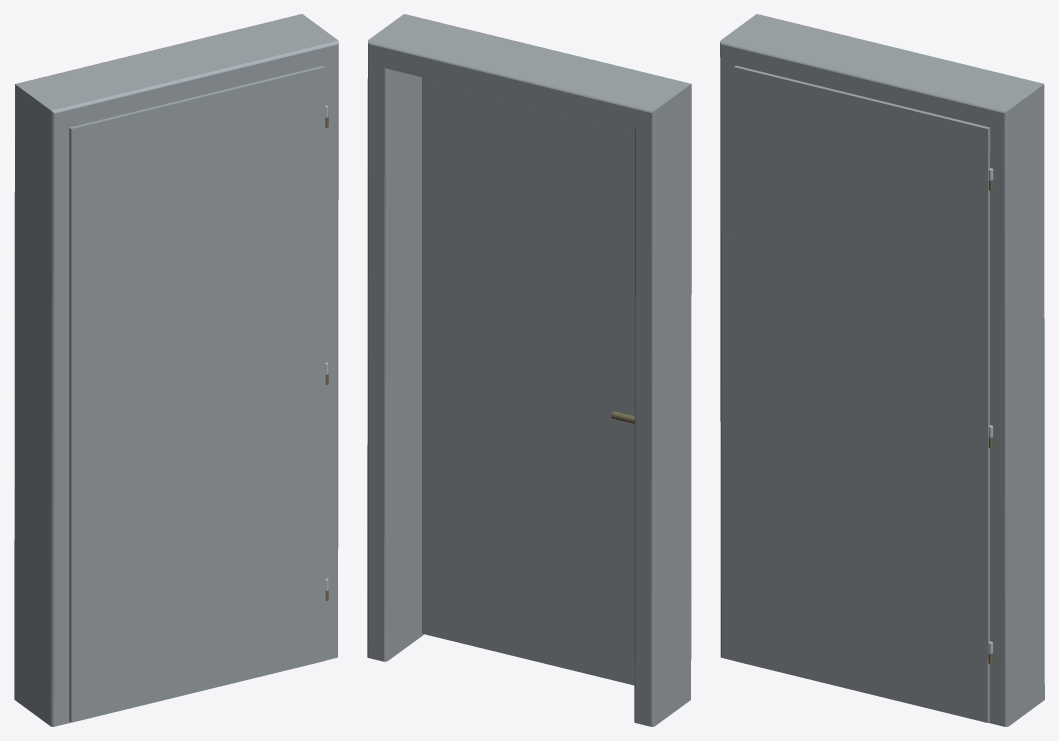
The picture shows the model from 3 angles, left to right: view 1: azimuth 30°, elevation 25°; view 2: azimuth 150°, elevation 25°; view 3: azimuth 330°, elevation 25°; orthographic projection.
Visible parts, largest first — view 1: SM_Door, SM_DoorFrame; view 2: SM_Door, SM_DoorFrame; view 3: SM_Door, SM_DoorFrame.
Part boxes in pixels (<box>): SM_Door: <box>69,65,328,722</box>; SM_DoorFrame: <box>14,14,338,726</box>; SM_Door: <box>422,77,634,685</box>; SM_DoorFrame: <box>367,14,691,726</box>; SM_Door: <box>733,65,993,722</box>; SM_DoorFrame: <box>720,14,1044,726</box>.
Size of the model in its own units: 1.16 by 2.38 by 0.2914.
Materials: 1 (1 with a texture image).
